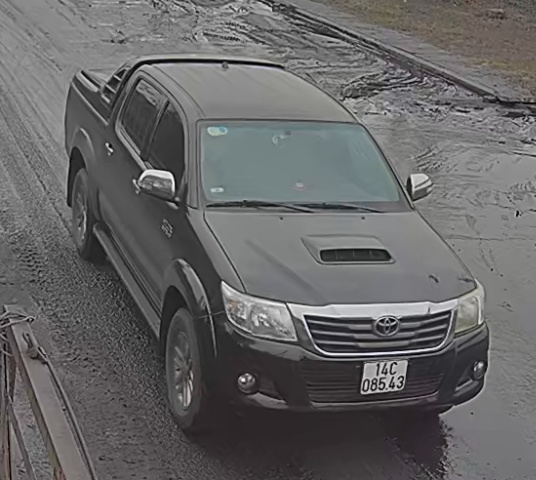vehicle plate: (358, 356, 412, 394)
